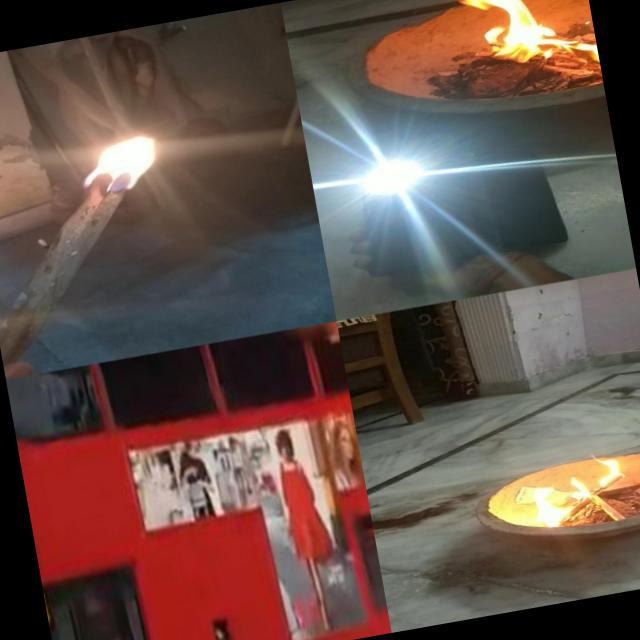fire: (449, 0, 602, 102), (499, 446, 640, 538), (46, 112, 172, 204)
